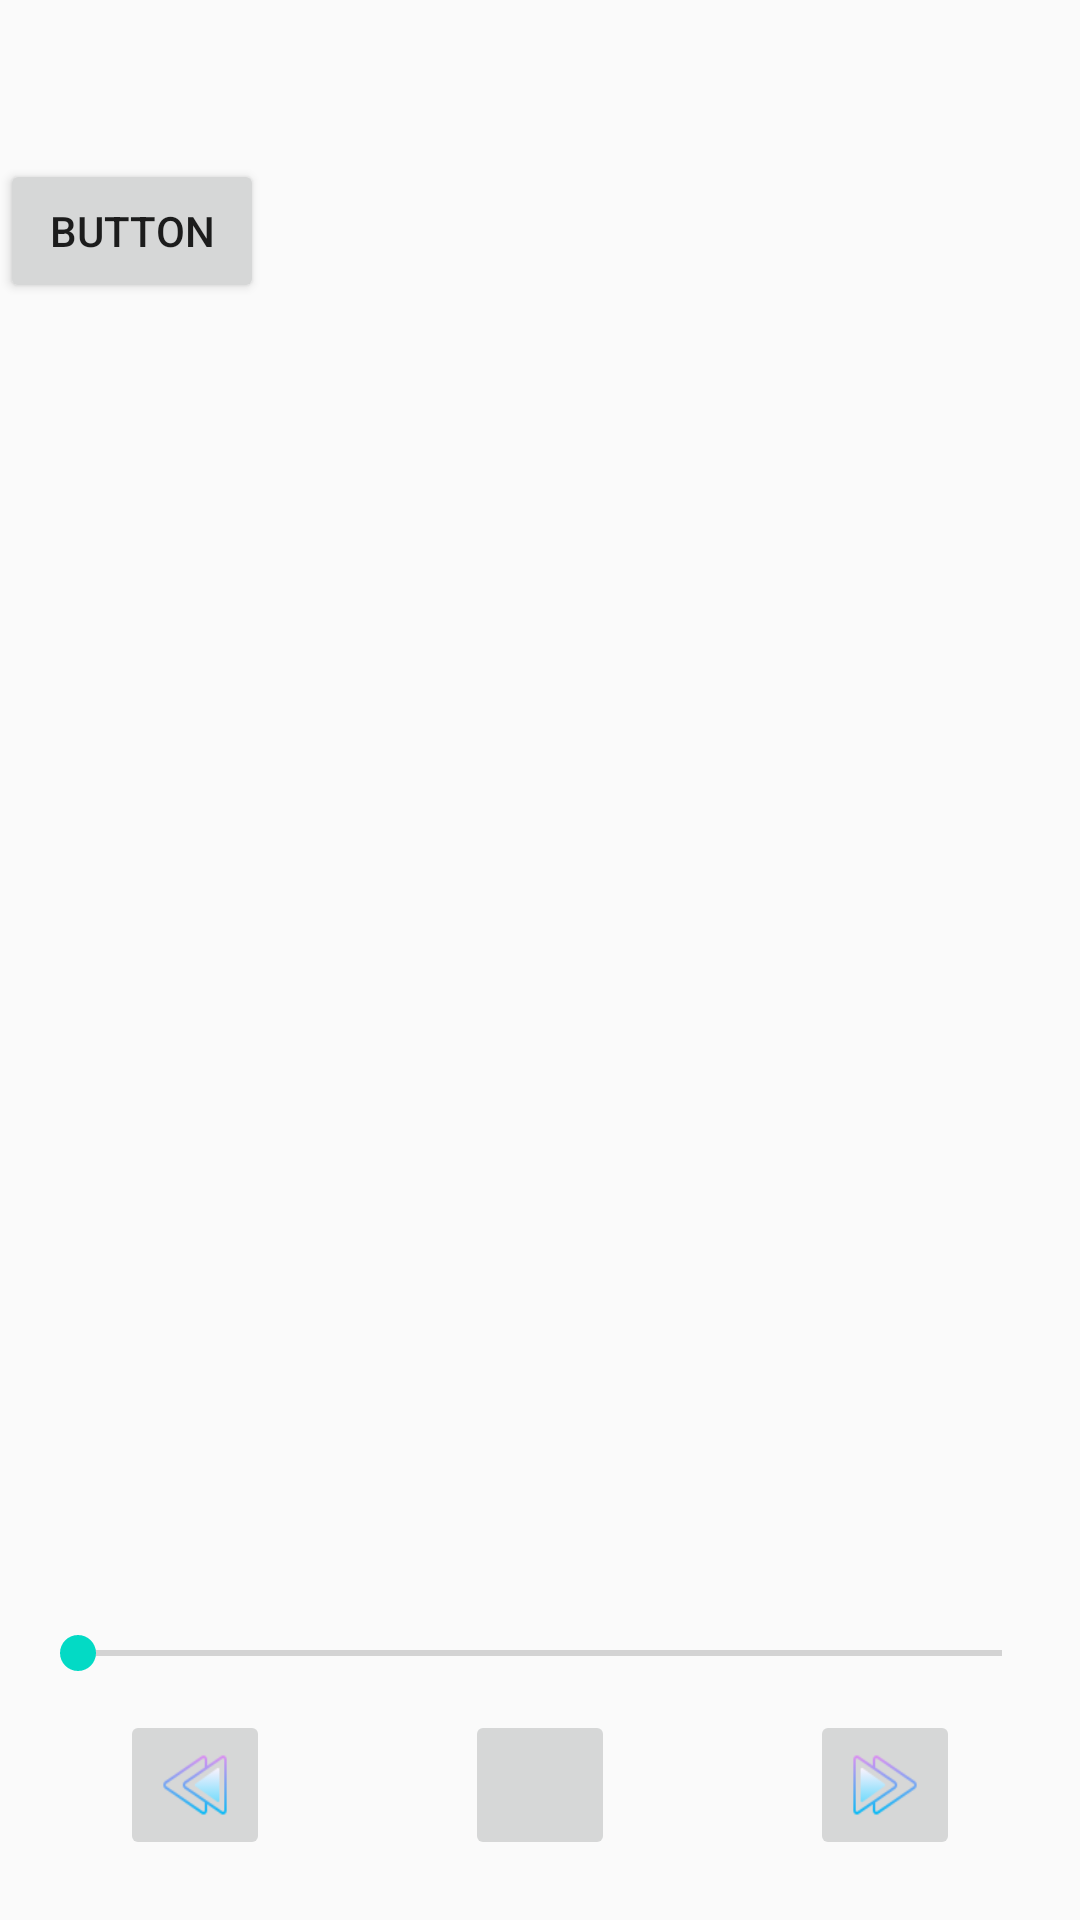

Named icons in this screenshot (1080w x 1920h) and their centers, (x,y):
forward: (885,1785)
rewind: (195,1785)
